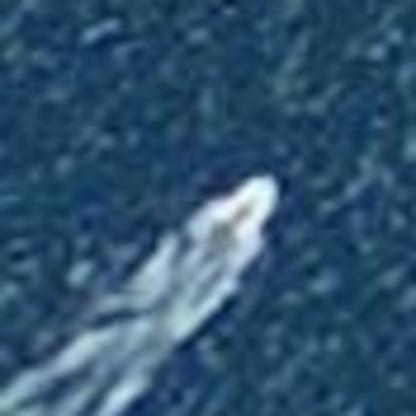ship: (176, 151, 292, 276)
